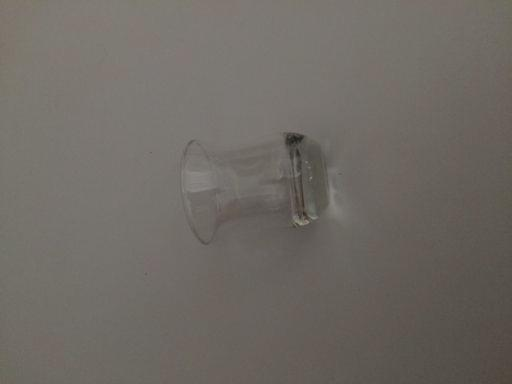glass: (180, 131, 334, 246)
